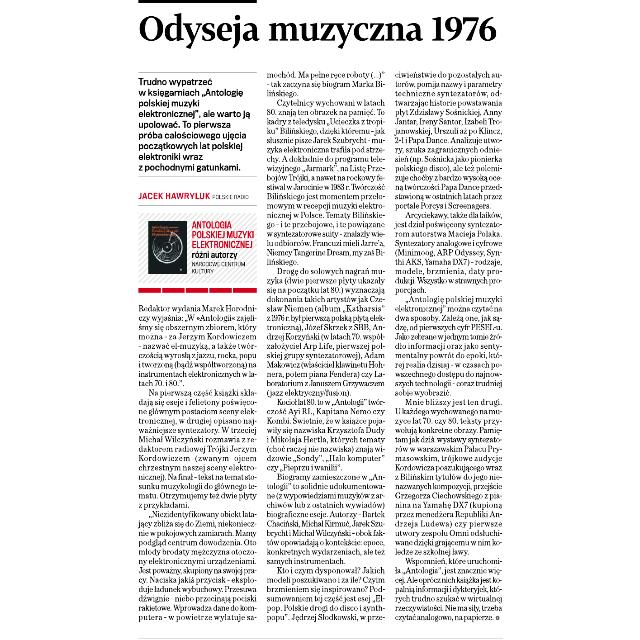author: (136, 186, 212, 204)
body: (264, 70, 388, 624), (393, 70, 507, 624), (136, 304, 262, 624)
lead: (134, 75, 250, 175)
title: (133, 7, 499, 53)
